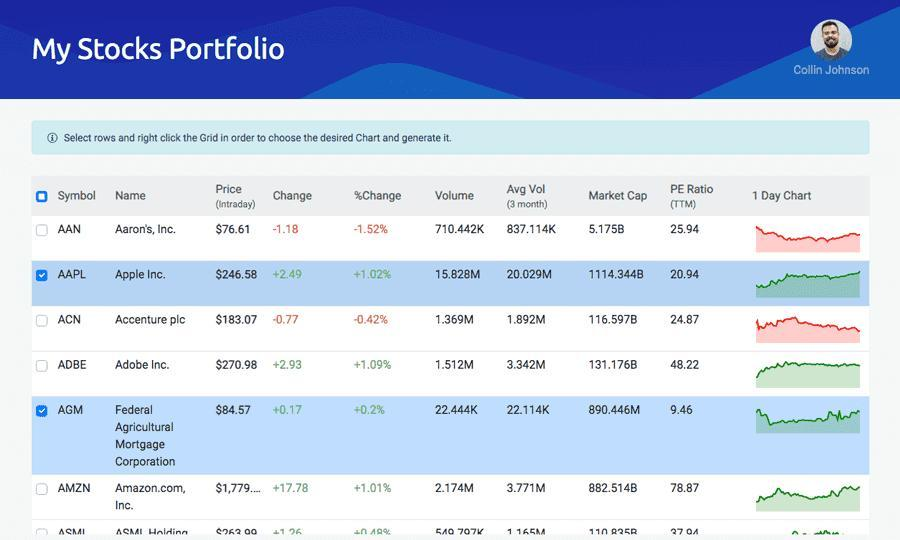checkbox: (37, 190, 49, 204), (36, 406, 48, 419), (37, 315, 48, 327), (38, 484, 49, 496), (37, 271, 48, 282), (38, 362, 48, 374), (37, 226, 48, 236)
label: (58, 190, 99, 206), (57, 481, 94, 497), (57, 404, 87, 420), (57, 358, 90, 372), (57, 312, 85, 327), (57, 269, 87, 282), (58, 222, 83, 236)
